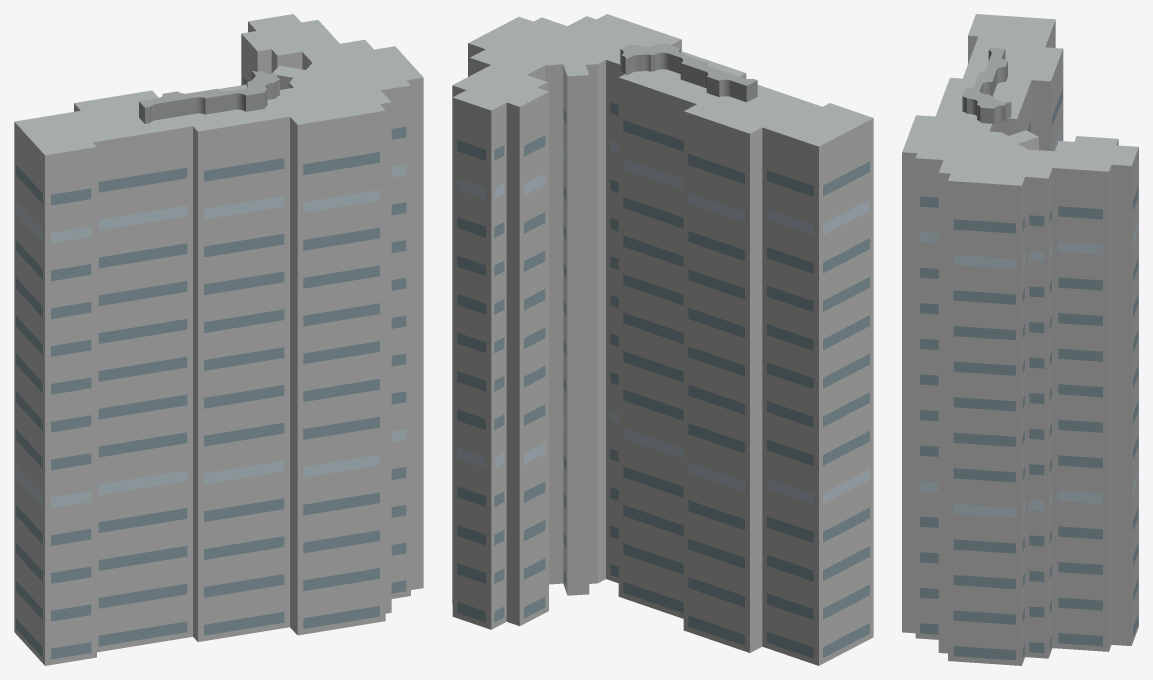
File: fallback-mapo-raemian-prugio-410.glb
3 renders of one model, left to right at view 1: azimuth 30°, elevation 25°; view 2: azimuth 150°, elevation 25°; view 3: azimuth 270°, elevation 25°, orthographic. The views are drawn at different scales.
Visible parts, largest first — view 1: fallback-mapo-raemian-prugio-410; view 2: fallback-mapo-raemian-prugio-410; view 3: fallback-mapo-raemian-prugio-410.
Part boxes in pixels (<box>): fallback-mapo-raemian-prugio-410: <box>14,14,423,665</box>; fallback-mapo-raemian-prugio-410: <box>452,14,873,665</box>; fallback-mapo-raemian-prugio-410: <box>902,14,1138,665</box>.
Size of the model in its own units: 58.04 by 78 by 33.77.
